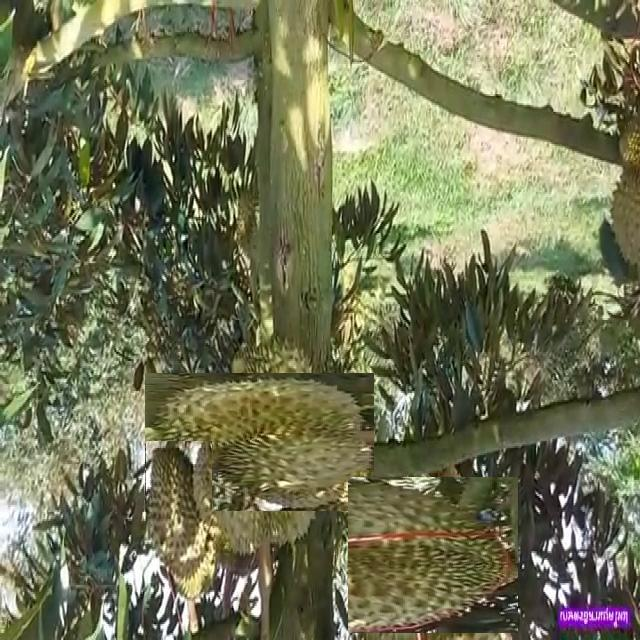durian: (167, 350, 351, 534), (352, 473, 515, 637), (146, 441, 212, 582)
